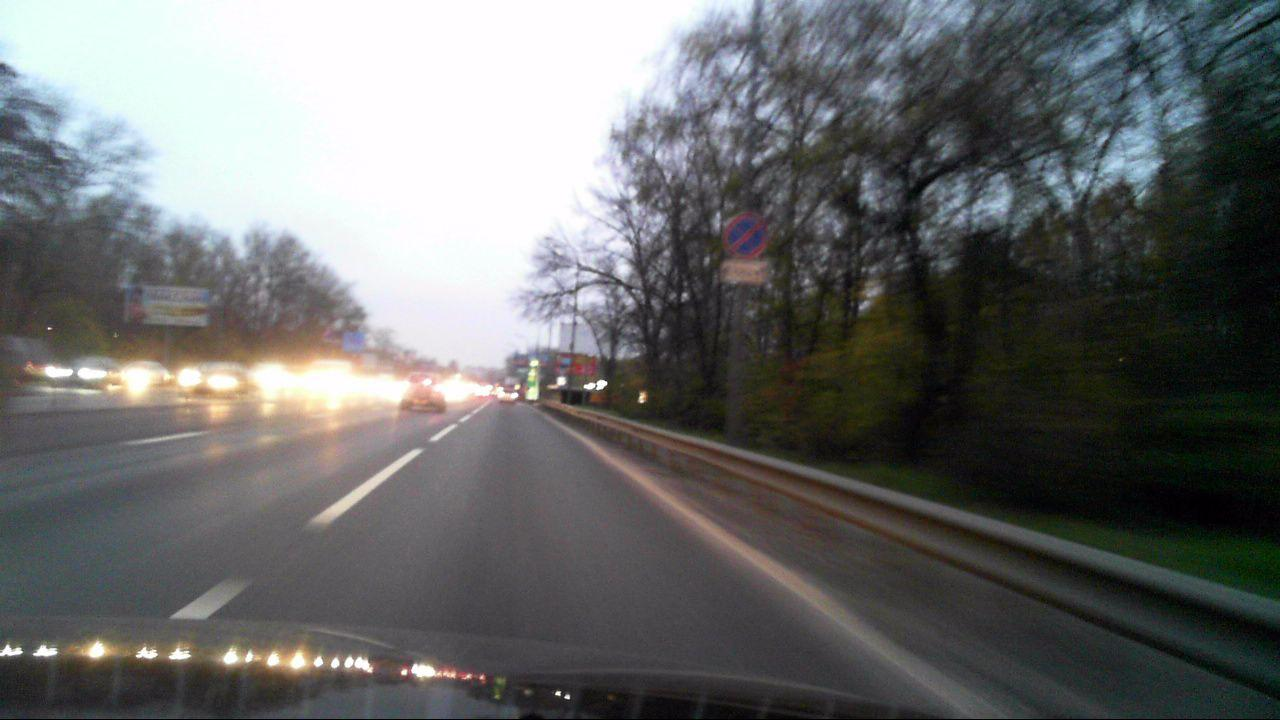3_27: (719, 209, 771, 257)
8_2_1: (721, 262, 773, 283)
